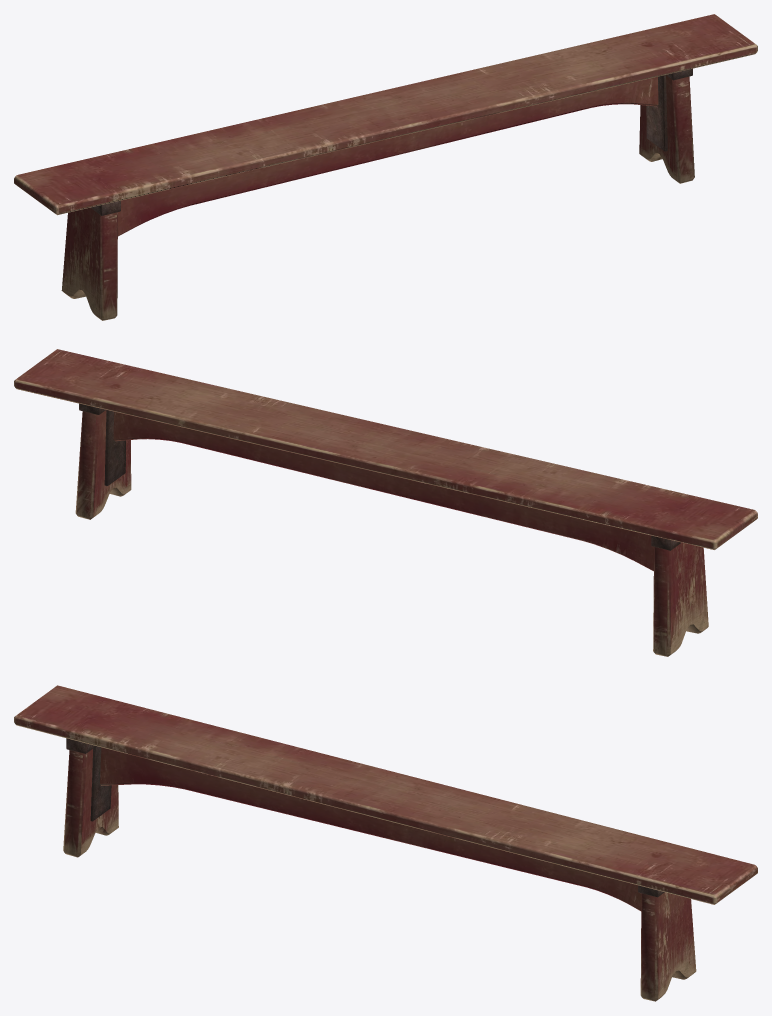
File: bench.glb
3 renders of one model, top to bottom at view 1: azimuth 30°, elevation 25°; view 2: azimuth 150°, elevation 25°; view 3: azimuth 330°, elevation 25°, orthographic.
Parts seen in each view (by area): view 1: Cube_Material.001_0; view 2: Cube_Material.001_0; view 3: Cube_Material.001_0.
Part boxes in pixels (x1,y1,x2,y2): Cube_Material.001_0: [14, 14, 757, 320]; Cube_Material.001_0: [14, 349, 757, 656]; Cube_Material.001_0: [14, 685, 757, 1001].
Size of the model in its own units: 2.78 by 0.5016 by 0.2993.
1 material, 1 textured.
